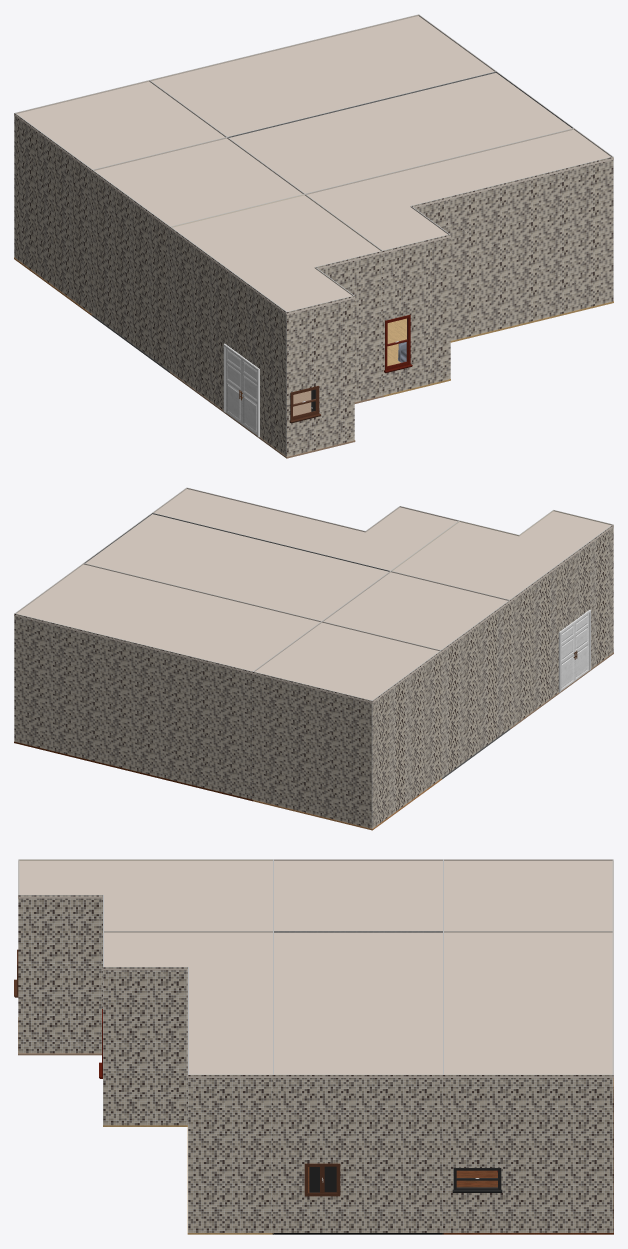
Rendered from ProcTHOR-Train-187.glb.
3 renders of one model, top to bottom at view 1: azimuth 30°, elevation 25°; view 2: azimuth 150°, elevation 25°; view 3: azimuth 270°, elevation 25°, orthographic. The views are drawn at different scales.
Parts seen in each view (by area): view 1: WallInside#wall|exterior|0.00|13.03|6.52|13.03, Ceiling#room|4|c, Ceiling#room|6|c, WallInside#wall|exterior|13.03|10.86|13.03|17.38, Ceiling#room|8|c, Ceiling#room|9|c, WallInside#wall|exterior|13.03|2.17|13.03|6.52, WallInside#wall|exterior|13.03|6.52|13.03|10.86, Ceiling#room|5|c, Ceiling#room|7|c, WallInside#wall|exterior|10.86|17.38|13.03|17.38, WallInside#wall|exterior|6.52|15.21|8.69|15.21 (+6 smaller); view 2: WallInside#wall|exterior|0.00|2.17|8.69|2.17, Ceiling#room|4|c, Ceiling#room|6|c, WallInside#wall|exterior|8.69|2.17|13.03|2.17, WallInside#wall|exterior|13.03|10.86|13.03|17.38, Ceiling#room|8|c, Ceiling#room|9|c, WallInside#wall|exterior|13.03|2.17|13.03|6.52, WallInside#wall|exterior|13.03|6.52|13.03|10.86, Ceiling#room|5|c, Ceiling#room|7|c, Doorway_Door_8a (+2 smaller); view 3: WallInside#wall|exterior|0.00|2.17|0.00|6.52, WallInside#wall|exterior|0.00|6.52|0.00|10.86, Ceiling#room|4|c, Ceiling#room|6|c, Ceiling#room|9|c, Ceiling#room|8|c, WallInside#wall|exterior|0.00|10.86|0.00|13.03, WallInside#wall|exterior|6.52|13.03|6.52|15.21, WallInside#wall|exterior|10.86|15.21|10.86|17.38, Ceiling#room|5|c, Ceiling#room|7|c, Floor#room|4|f (+4 smaller).
Boxes of the visible parts, box(x1,y1,x2,y2) form: WallInside#wall|exterior|0.00|13.03|6.52|13.03: box(412, 156, 613, 340); Ceiling#room|4|c: box(151, 16, 494, 136); Ceiling#room|6|c: box(229, 73, 571, 194); WallInside#wall|exterior|13.03|10.86|13.03|17.38: box(170, 227, 286, 456); Ceiling#room|8|c: box(170, 195, 383, 314); Ceiling#room|9|c: box(307, 130, 613, 253); WallInside#wall|exterior|13.03|2.17|13.03|6.52: box(14, 113, 92, 313); WallInside#wall|exterior|13.03|6.52|13.03|10.86: box(92, 170, 170, 371); Ceiling#room|5|c: box(14, 81, 224, 172); Ceiling#room|7|c: box(91, 138, 304, 229); WallInside#wall|exterior|10.86|17.38|13.03|17.38: box(286, 296, 354, 456); WallInside#wall|exterior|6.52|15.21|8.69|15.21: box(382, 234, 450, 395); WallInside#wall|exterior|0.00|2.17|8.69|2.17: box(14, 613, 253, 799); Ceiling#room|4|c: box(14, 564, 319, 674); Ceiling#room|6|c: box(85, 514, 390, 620); WallInside#wall|exterior|8.69|2.17|13.03|2.17: box(252, 672, 372, 828); WallInside#wall|exterior|13.03|10.86|13.03|17.38: box(510, 524, 613, 727); Ceiling#room|8|c: box(392, 511, 613, 602); Ceiling#room|9|c: box(154, 489, 457, 570); WallInside#wall|exterior|13.03|2.17|13.03|6.52: box(372, 651, 441, 828); WallInside#wall|exterior|13.03|6.52|13.03|10.86: box(441, 600, 509, 778); Ceiling#room|5|c: box(252, 622, 441, 703); Ceiling#room|7|c: box(324, 572, 510, 652); Doorway_Door_8a: box(574, 613, 589, 680); WallInside#wall|exterior|0.00|2.17|0.00|6.52: box(443, 1074, 613, 1232); WallInside#wall|exterior|0.00|6.52|0.00|10.86: box(273, 1074, 443, 1232); Ceiling#room|4|c: box(442, 932, 613, 1077); Ceiling#room|6|c: box(272, 932, 443, 1077); Ceiling#room|9|c: box(103, 932, 274, 1077); Ceiling#room|8|c: box(18, 860, 272, 930); WallInside#wall|exterior|0.00|10.86|0.00|13.03: box(188, 1074, 273, 1232); WallInside#wall|exterior|6.52|13.03|6.52|15.21: box(103, 967, 188, 1125); WallInside#wall|exterior|10.86|15.21|10.86|17.38: box(18, 895, 102, 1053); Ceiling#room|5|c: box(442, 860, 613, 931); Ceiling#room|7|c: box(272, 861, 442, 930); Floor#room|4|f: box(442, 1089, 613, 1234).
Size of what is drawn, in the model's own units: 13.24 by 4.52 by 15.35.
395 materials, 163 textured.
